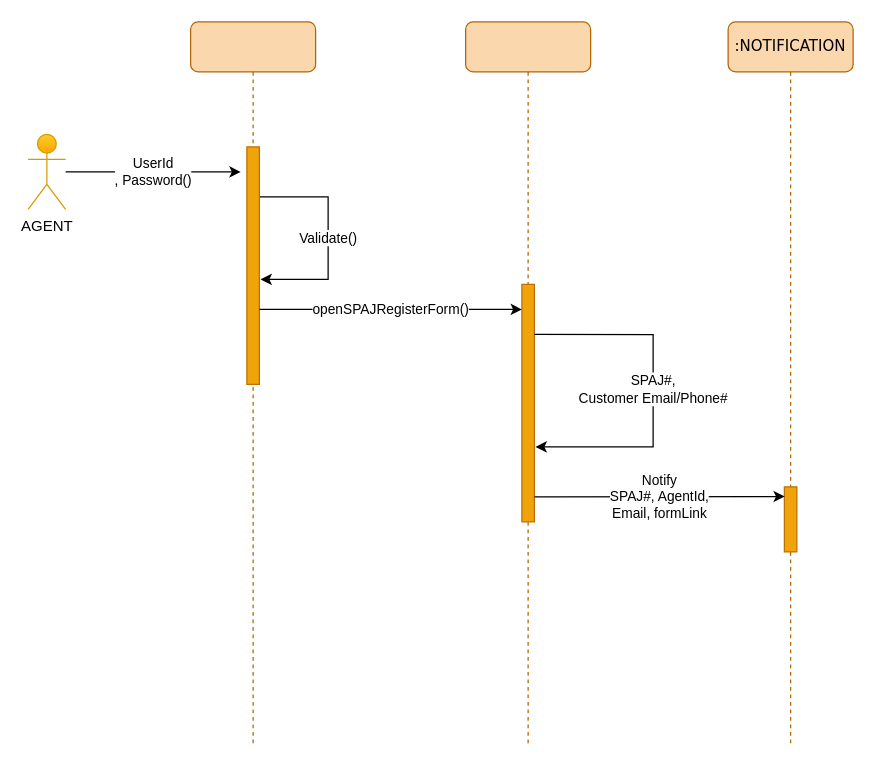
Some shapes in this 875 by 769 pixel diagram are drawn without their labels. The box of each missing label's shape, as (x1, y1, x2, y2) in pixels:
:LOGIN: (189, 21, 316, 747)
:SPAJ# REGISTER: (464, 21, 591, 747)
